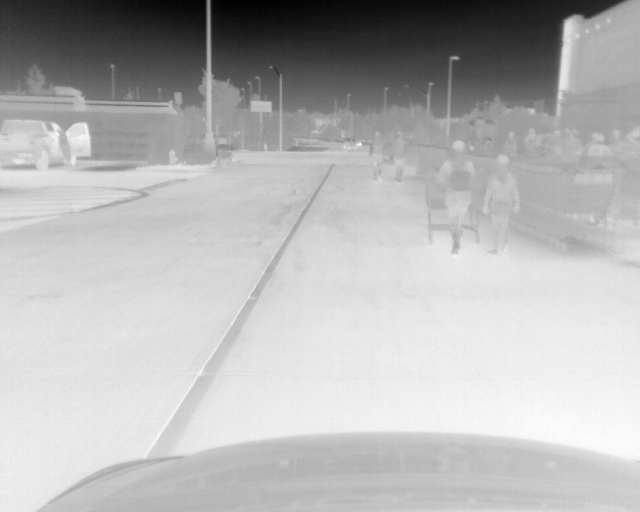car: (1, 117, 91, 170), (342, 137, 362, 150)
people: (438, 138, 478, 255), (480, 155, 522, 255), (586, 134, 615, 227), (616, 125, 640, 229), (547, 128, 582, 161), (389, 129, 411, 181), (368, 134, 387, 183), (523, 127, 542, 158), (56, 127, 71, 164), (504, 129, 518, 158)
